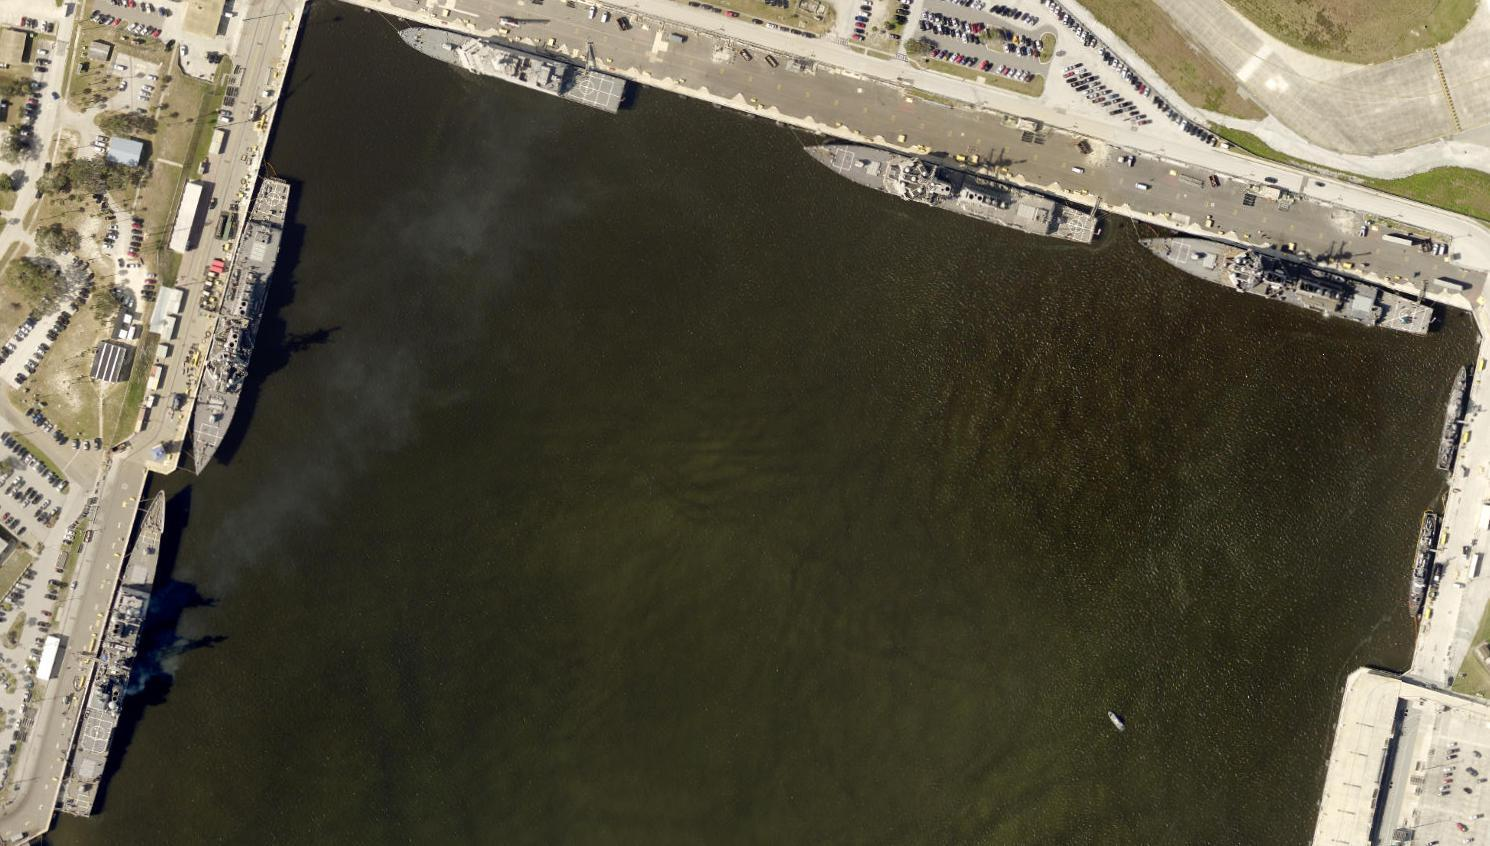destroyer: (53, 487, 178, 823)
fregate: (796, 119, 1104, 256), (1134, 212, 1444, 342), (192, 171, 295, 492)
patrol: (383, 8, 639, 123)
